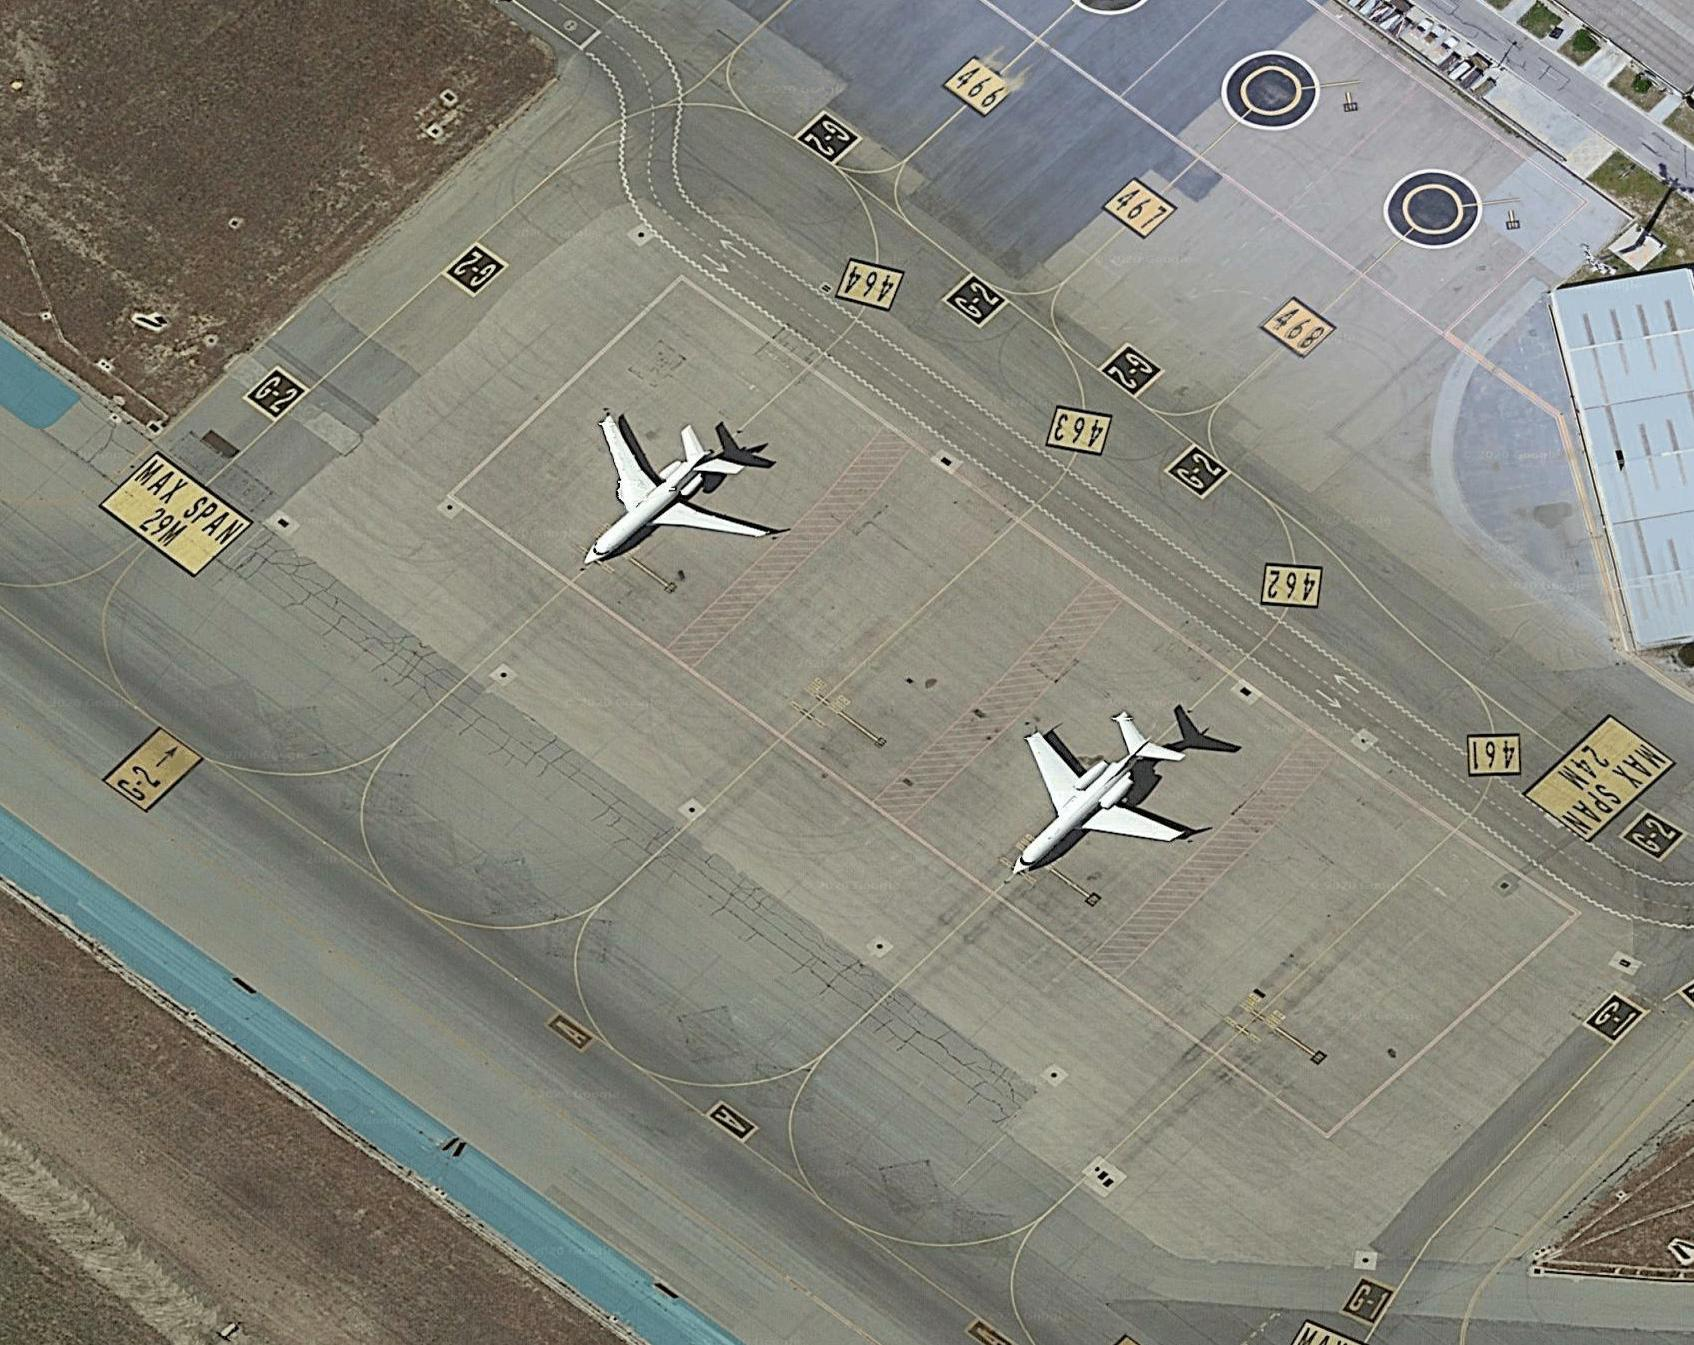plane: (499, 359, 818, 653), (932, 668, 1264, 950)
